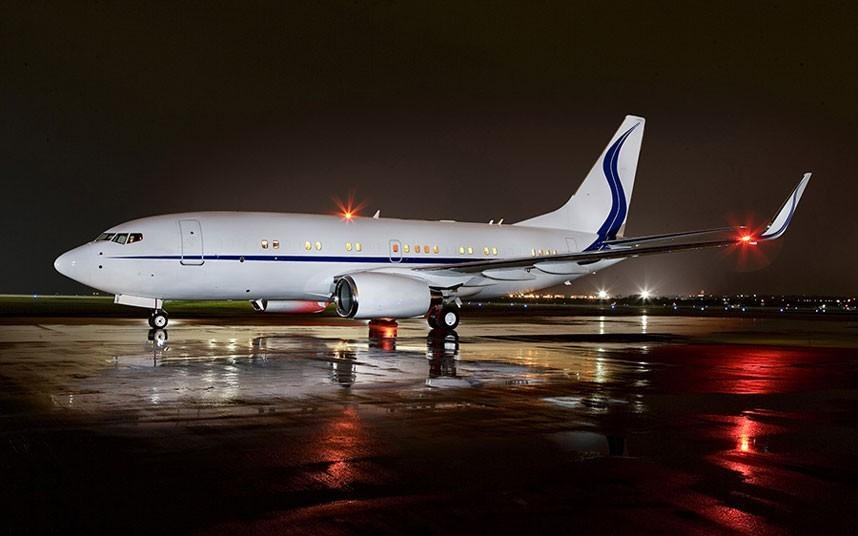airplane: (49, 115, 816, 358)
